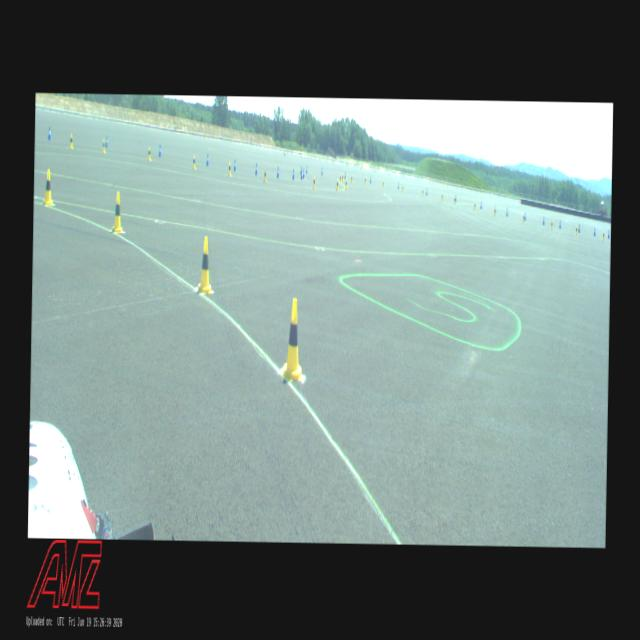blue_cone: (46, 126, 50, 139), (158, 144, 162, 156), (233, 158, 236, 172), (254, 162, 257, 175), (206, 153, 209, 166), (105, 135, 108, 147), (276, 165, 279, 177), (300, 168, 302, 180), (292, 168, 294, 179), (302, 167, 304, 178), (479, 201, 482, 208), (305, 164, 307, 173), (542, 215, 544, 224), (593, 227, 595, 236), (506, 207, 508, 216), (320, 166, 322, 175), (524, 211, 526, 220), (300, 165, 302, 174), (558, 220, 560, 228), (607, 230, 609, 238), (578, 224, 580, 232), (369, 176, 371, 183), (426, 188, 428, 195), (398, 182, 398, 188)
yellow_cone: (282, 298, 304, 381), (198, 236, 214, 293), (41, 168, 56, 204), (112, 192, 125, 232), (192, 154, 196, 170), (69, 132, 73, 148), (227, 161, 231, 176), (262, 168, 266, 182), (147, 146, 151, 160), (102, 138, 105, 152), (312, 176, 315, 189), (344, 177, 346, 190), (336, 178, 338, 190), (575, 225, 577, 235), (522, 213, 524, 222), (494, 205, 496, 214), (602, 231, 604, 240), (473, 201, 475, 210), (350, 174, 352, 182), (440, 192, 442, 200), (550, 220, 552, 228), (453, 196, 455, 204), (341, 174, 343, 182), (364, 176, 365, 185), (382, 180, 383, 188), (402, 184, 403, 192), (340, 174, 340, 182), (422, 189, 422, 196)
